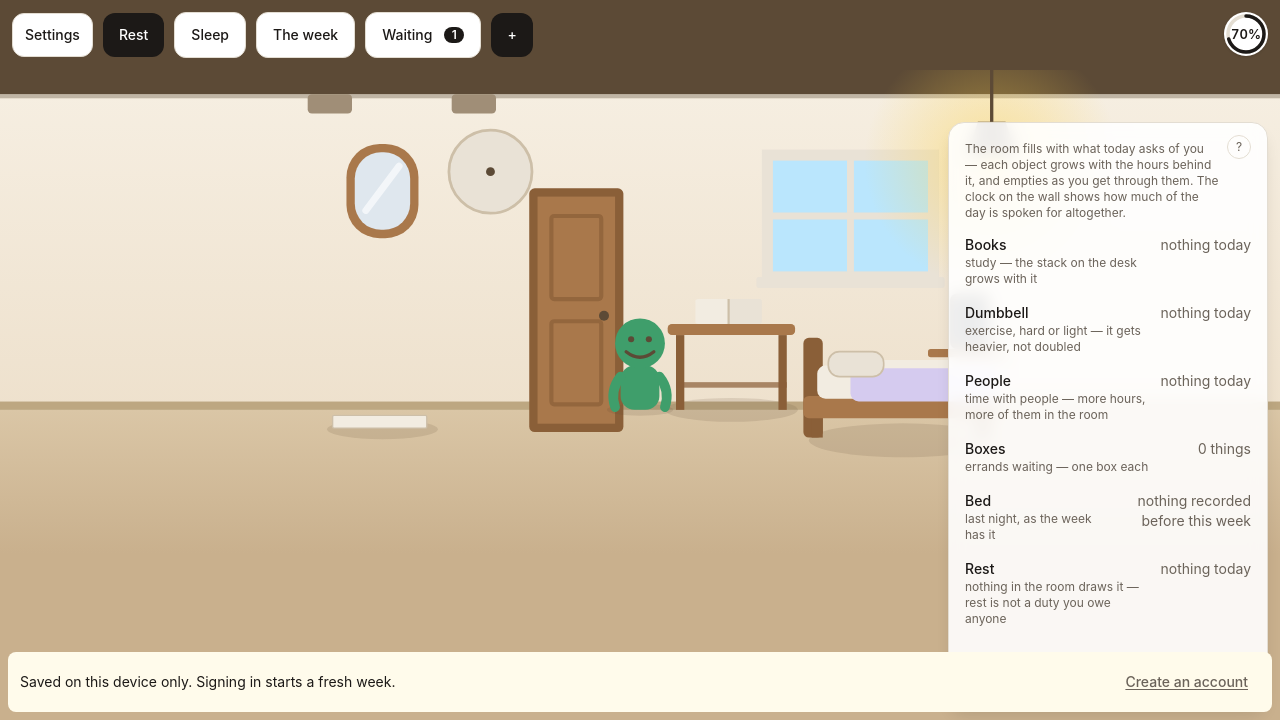
RoomShell, the add sheet › the typing way opens the planner
Click the button with test id "open-add": (512, 35) [491,13,533,57]
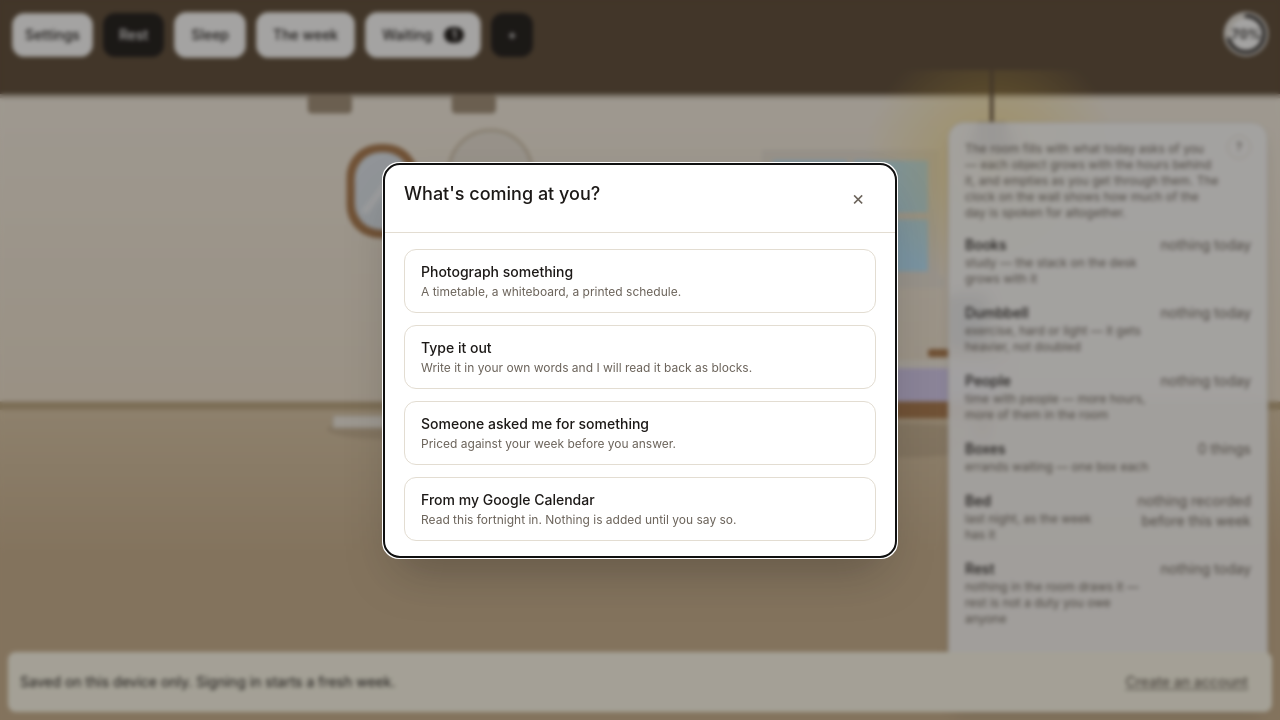
Click the button with test id "add-type": (640, 356) [404,324,876,388]
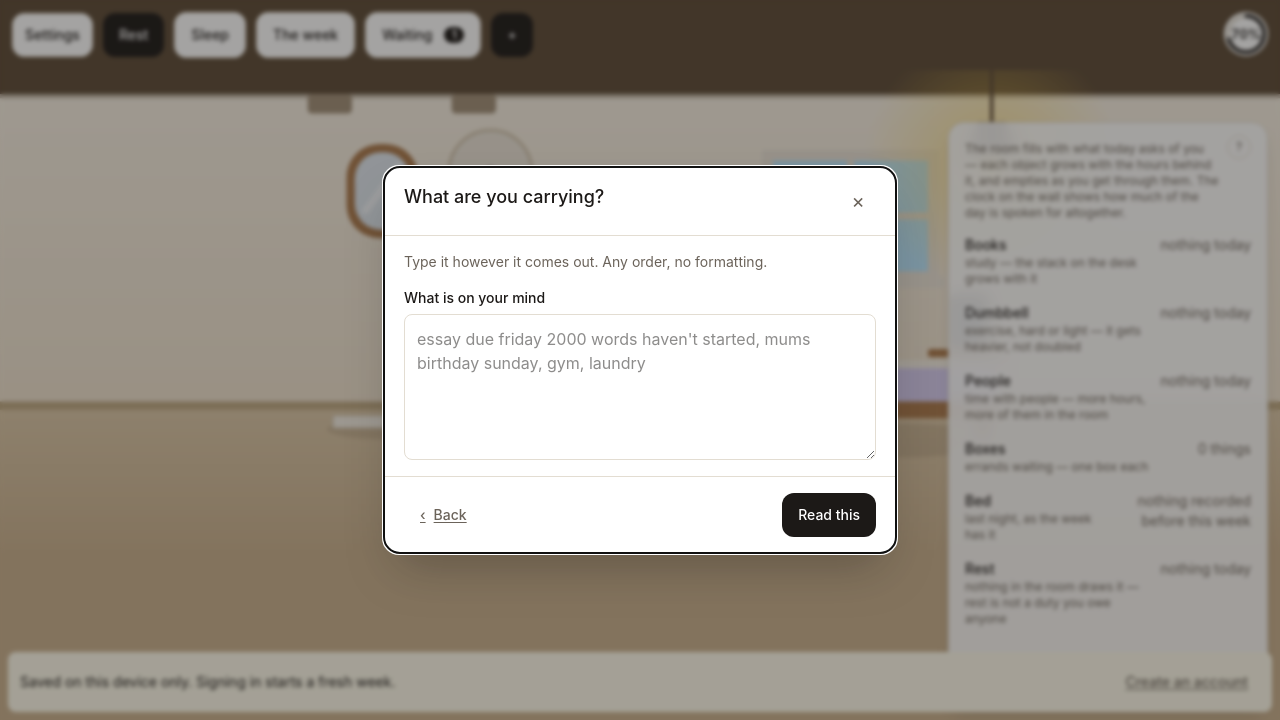
Now the text box labelled "What is on your mind" is shown, box [404,314,876,460]
